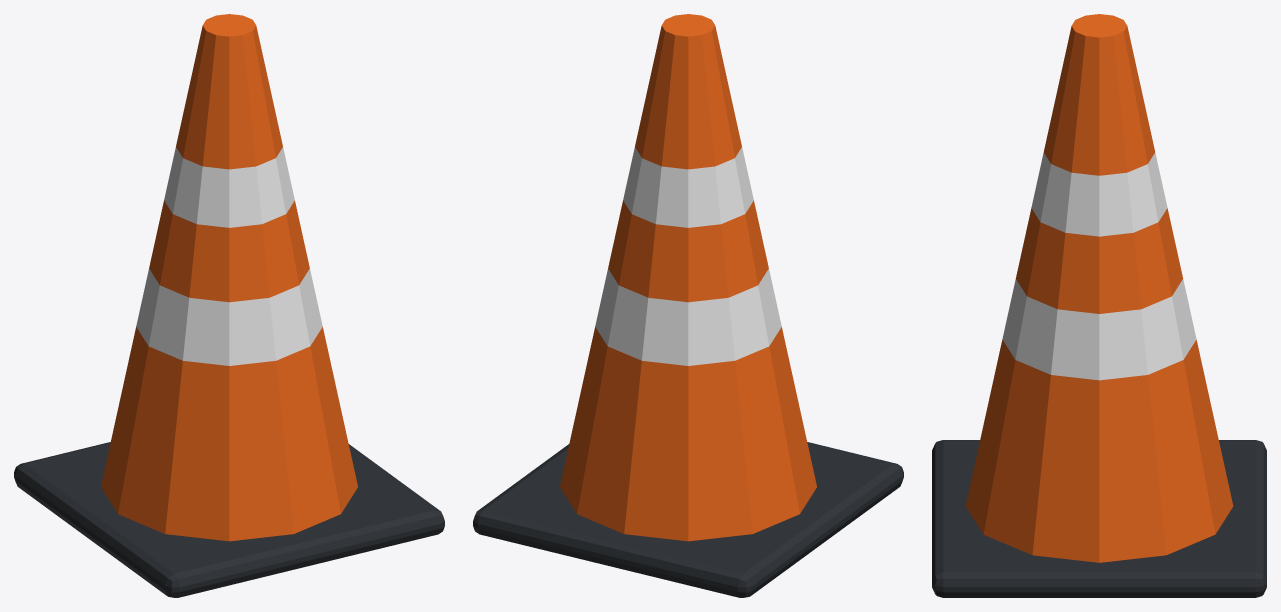
3 views of the same model, side by side, from view 1: azimuth 30°, elevation 25°; view 2: azimuth 150°, elevation 25°; view 3: azimuth 270°, elevation 25° (orthographic). The views are drawn at different scales.
Visible parts, largest first — view 1: ConeBand, ConeBase, ConeBand.004, ConeBand.001, ConeBand.002, ConeBand.003; view 2: ConeBand, ConeBase, ConeBand.004, ConeBand.001, ConeBand.002, ConeBand.003; view 3: ConeBand, ConeBase, ConeBand.004, ConeBand.001, ConeBand.002, ConeBand.003.
Boxes of the visible parts, bbox=[...] form: ConeBand: bbox=[101, 327, 357, 541]; ConeBase: bbox=[14, 442, 444, 597]; ConeBand.004: bbox=[176, 14, 282, 169]; ConeBand.001: bbox=[136, 268, 322, 365]; ConeBand.002: bbox=[149, 200, 309, 302]; ConeBand.003: bbox=[164, 147, 294, 227]; ConeBand: bbox=[560, 327, 816, 541]; ConeBase: bbox=[473, 442, 903, 597]; ConeBand.004: bbox=[635, 14, 741, 169]; ConeBand.001: bbox=[595, 268, 781, 365]; ConeBand.002: bbox=[608, 200, 768, 302]; ConeBand.003: bbox=[623, 147, 753, 227]; ConeBand: bbox=[965, 340, 1233, 562]; ConeBase: bbox=[932, 440, 1266, 597]; ConeBand.004: bbox=[1044, 14, 1154, 175]; ConeBand.001: bbox=[1002, 279, 1196, 380]; ConeBand.002: bbox=[1016, 208, 1182, 313]; ConeBand.003: bbox=[1031, 152, 1167, 236].
Size of the model in its own units: 0.6 by 1 by 0.6.
